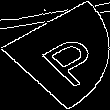P_NW: (13, 24, 97, 86)
